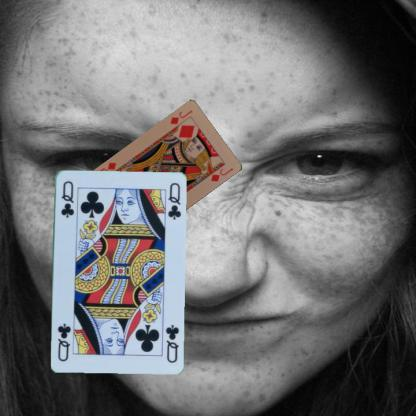Jd: (168, 107, 194, 126)
Qc: (162, 322, 180, 364), (58, 178, 75, 219)
